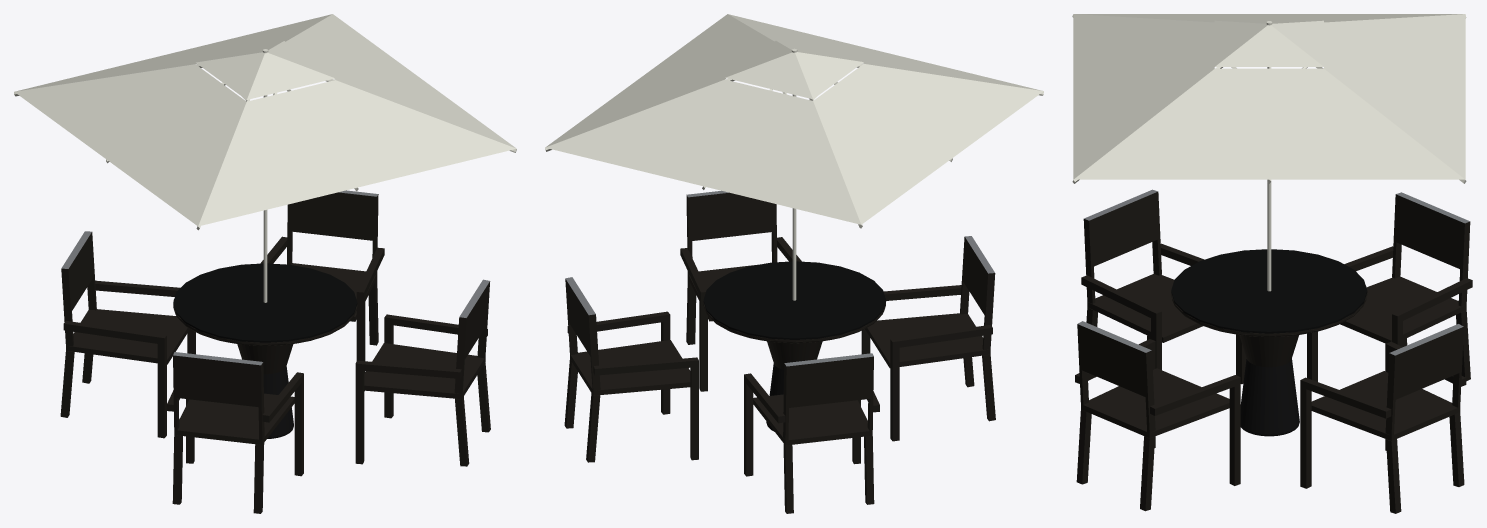
File: kafic-set-bijela.glb
3 views of the same model, side by side, from view 1: azimuth 30°, elevation 25°; view 2: azimuth 150°, elevation 25°; view 3: azimuth 270°, elevation 25° (orthographic). The views are drawn at different scales.
Parts seen in each view (by area): view 1: kafic-set-bijela; view 2: kafic-set-bijela; view 3: kafic-set-bijela.
Boxes of the visible parts, bbox=[...] form: kafic-set-bijela: bbox=[14, 14, 516, 513]; kafic-set-bijela: bbox=[545, 14, 1043, 513]; kafic-set-bijela: bbox=[1072, 14, 1472, 513].
Bounding box in the file's own units: 3 × 3.27 × 2.92.
Materials: 1 (1 with a texture image).
